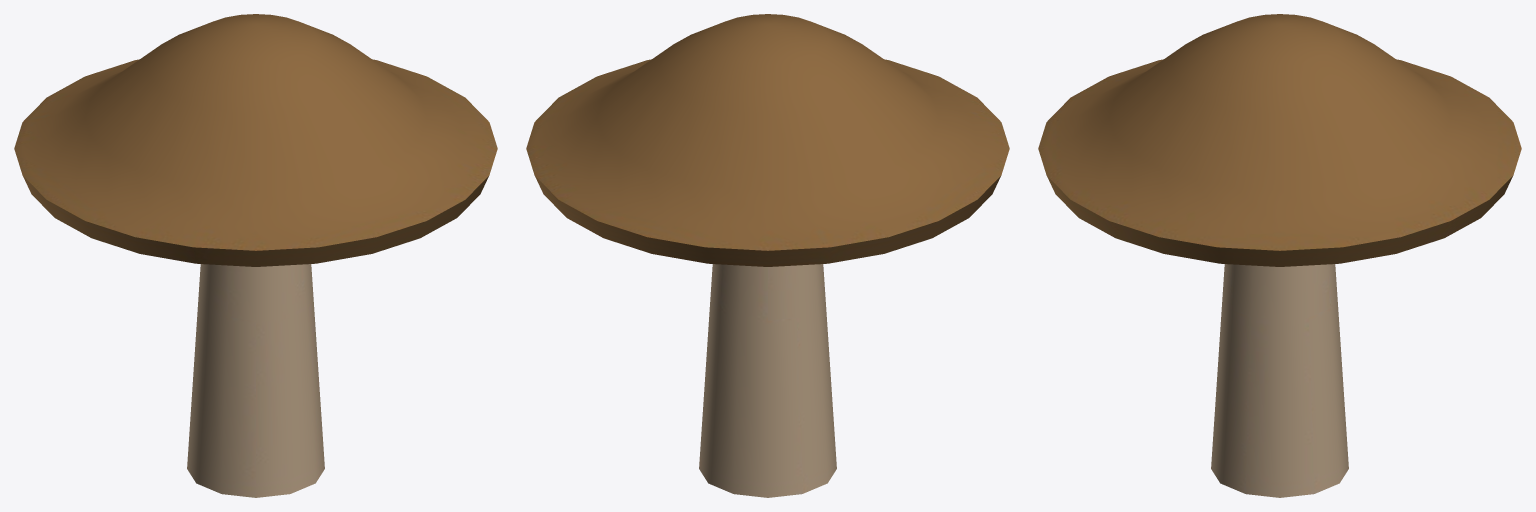
The model's file is mushroom.fbx.
The picture shows the model from 3 angles, left to right: view 1: azimuth 30°, elevation 25°; view 2: azimuth 150°, elevation 25°; view 3: azimuth 270°, elevation 25°; orthographic projection.
Visible parts, largest first — view 1: mushroom_1; view 2: mushroom_1; view 3: mushroom_1.
Part boxes in pixels (x1,y1,x2,y2): mushroom_1: (14, 14, 497, 497); mushroom_1: (526, 14, 1009, 497); mushroom_1: (1038, 14, 1521, 497).
Bounding box in the file's own units: 200 × 203 × 200.
Materials: 1 (1 with a texture image).
